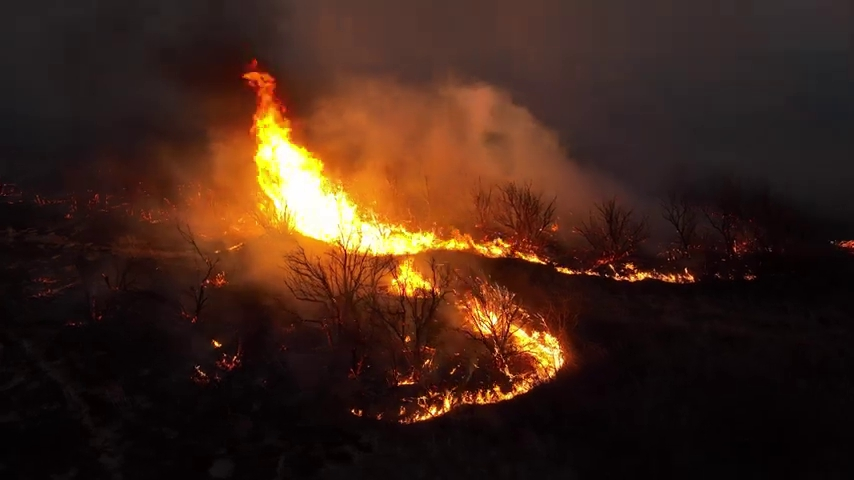forest_fire: (243, 71, 510, 257), (404, 327, 565, 422), (459, 283, 509, 333), (608, 263, 695, 283), (397, 259, 434, 293), (557, 267, 580, 273)
